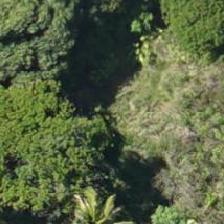coconut_tree: (52, 167, 142, 223)
